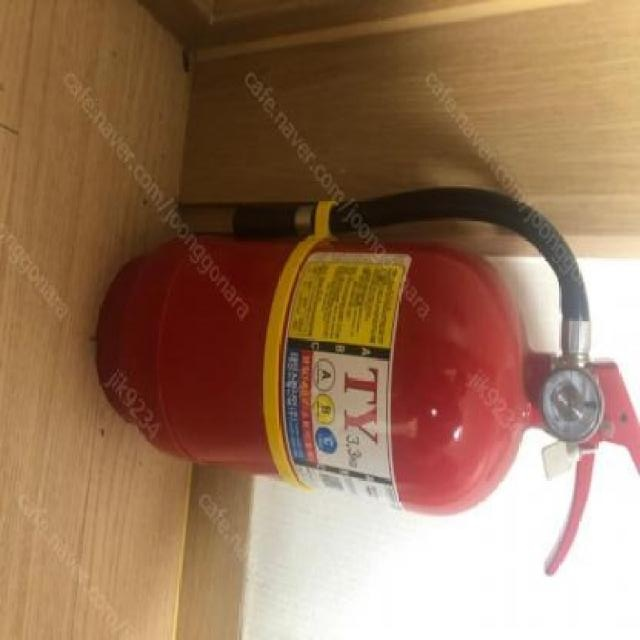fire extinguisher: (96, 187, 639, 576)
